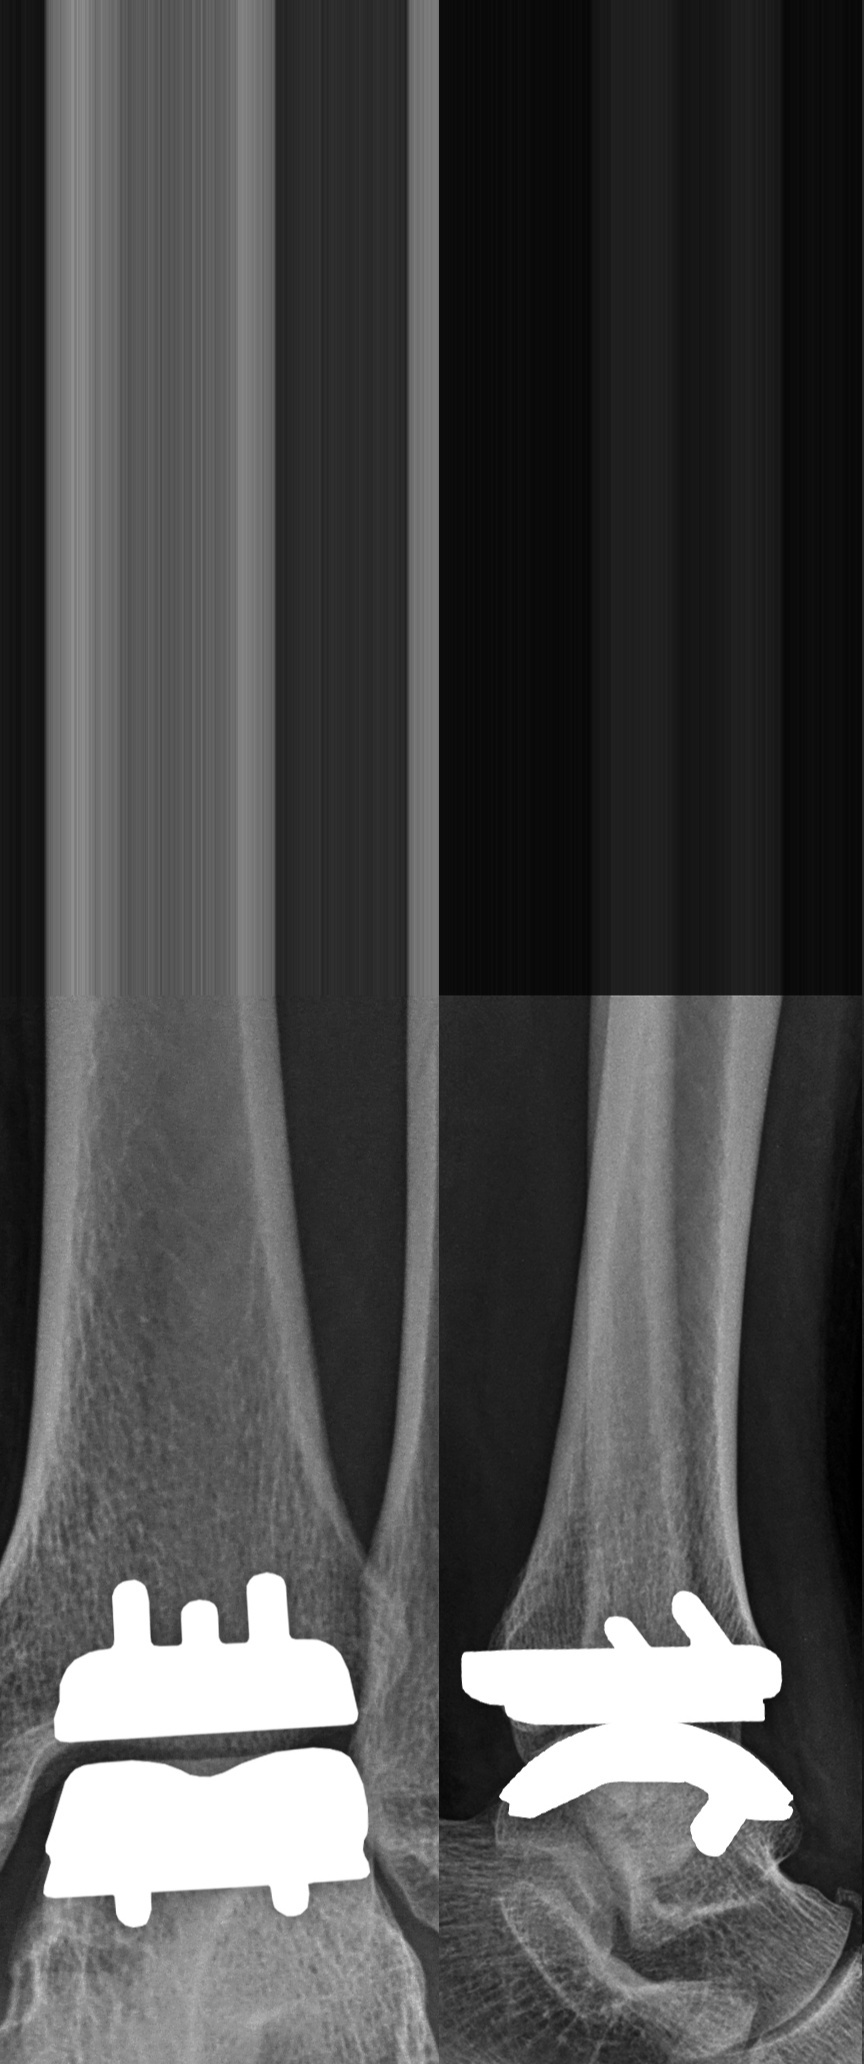Ankle - Infinity - Wright: (26, 1569, 392, 1948), (448, 1576, 806, 1863)
